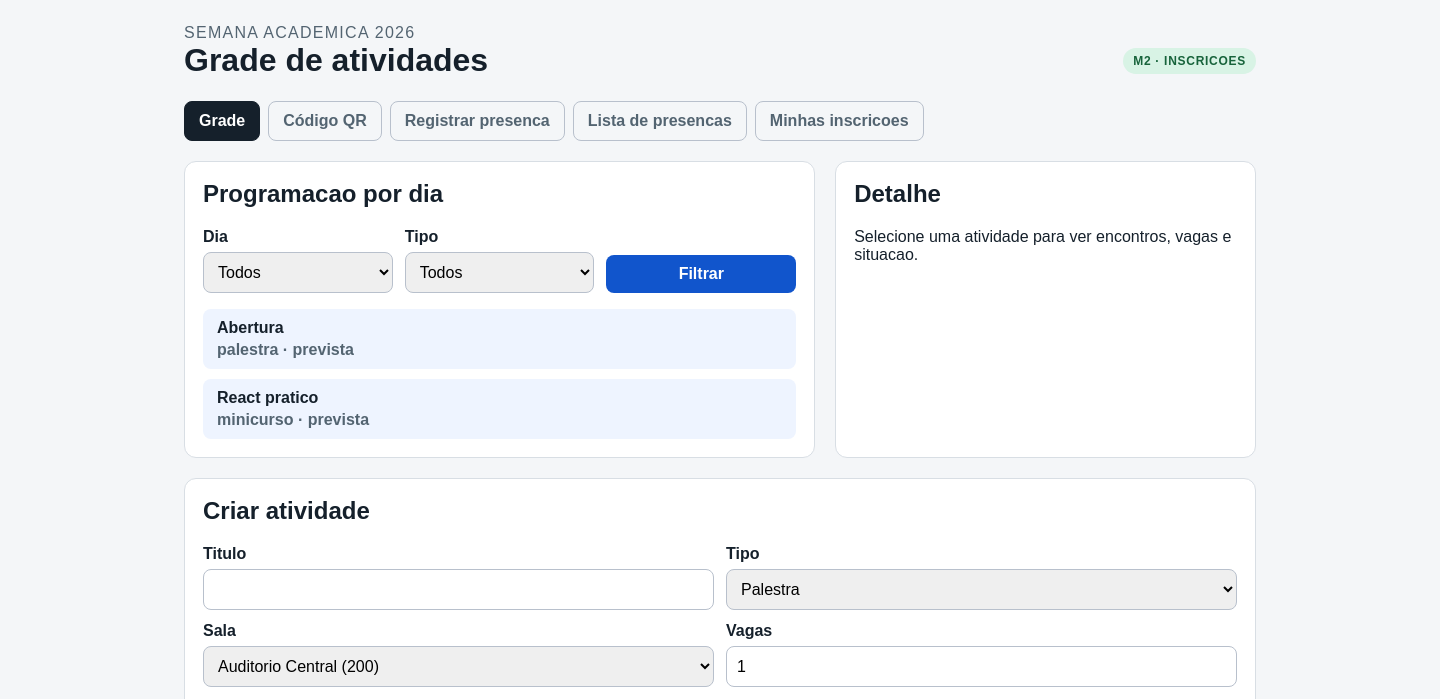
Test: App M1 › mostra detalhe com encontros, vagas e situacao
Click the button "React pratico minicurso · prevista" at coordinates (268, 397), box [203,379,796,439]
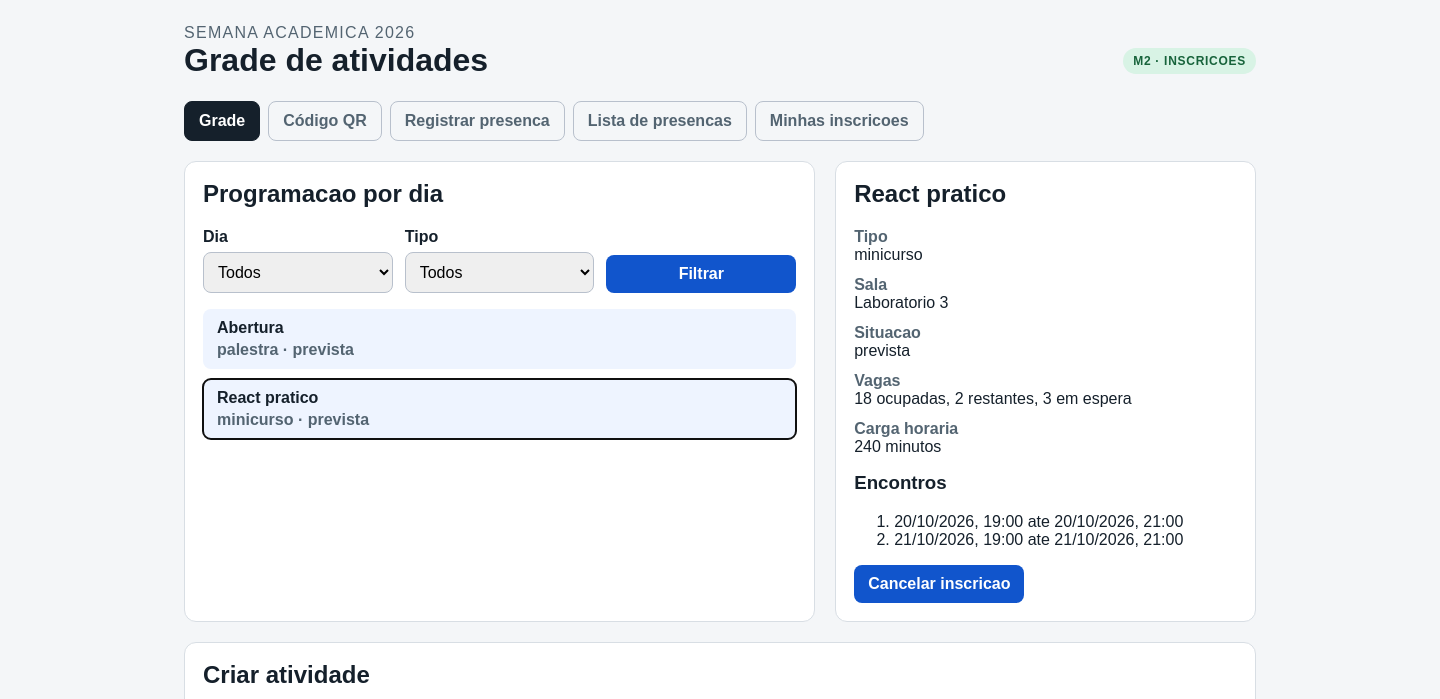
Expected: the text "prevista" is shown, [854,342,910,359]
Expected: the text "18 ocupadas, 2 restantes, 3 em espera" is shown, [854,390,1132,407]
Expected: the list item "20/10/2026, 19:00 ate 20/10/2026, 21:00" is shown, [894,513,1183,530]
